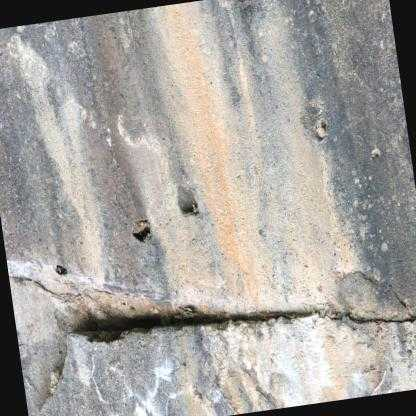crack: (61, 302, 416, 347)
